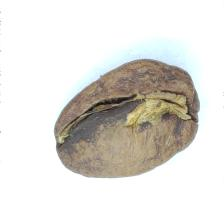NG: (57, 91, 195, 173)
